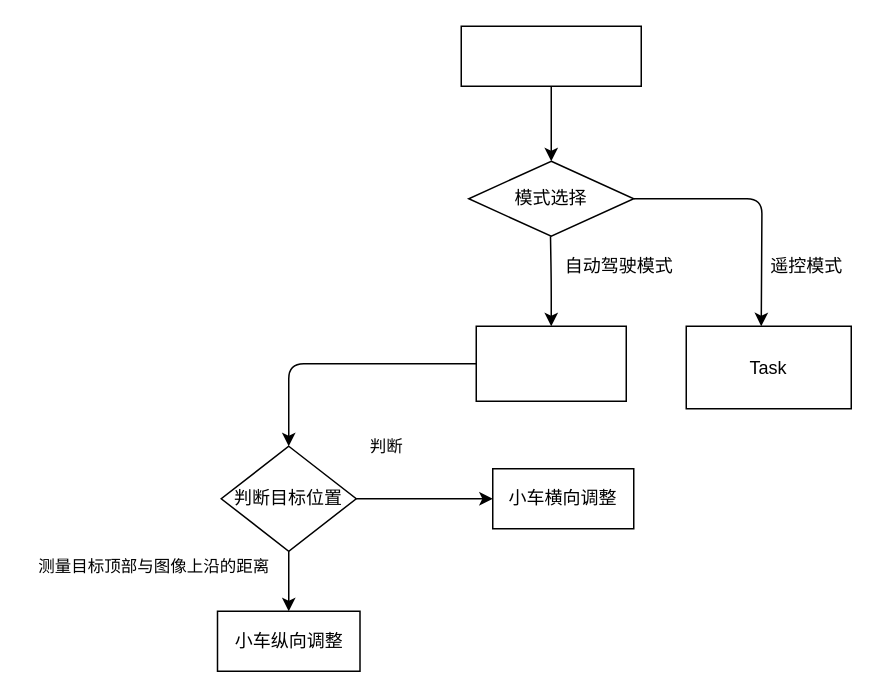
The diagram is 878 pixels wide and 698 high, and some of its shapes have lost their labels. The centre of each missing label's shape, as x and y in pixels:
摄像头获取实时图像: pixel 550 55
目标检测: pixel 550 363
